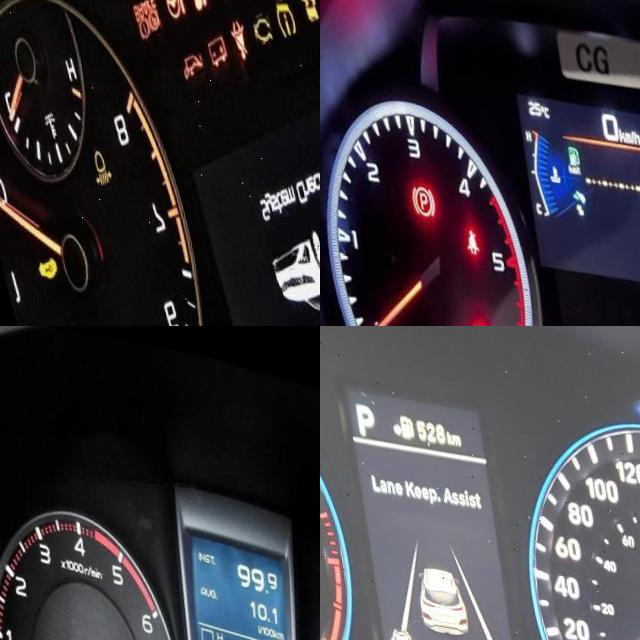Seat Belt: (451, 219, 468, 248)
